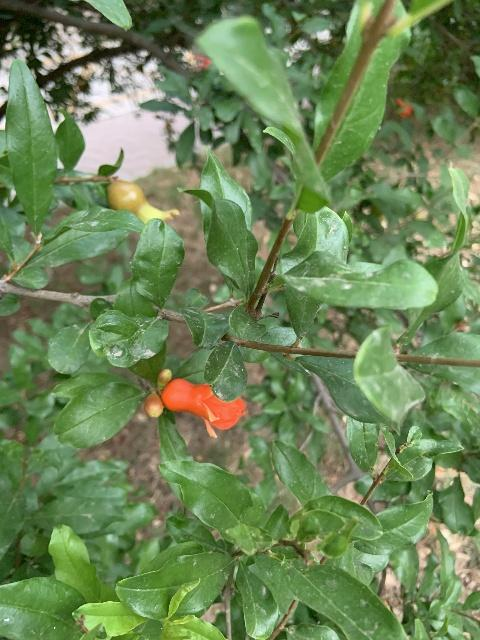bud: (143, 393, 163, 417), (157, 367, 173, 386)
early-fruit: (106, 178, 177, 239)
flower: (163, 379, 246, 437)
